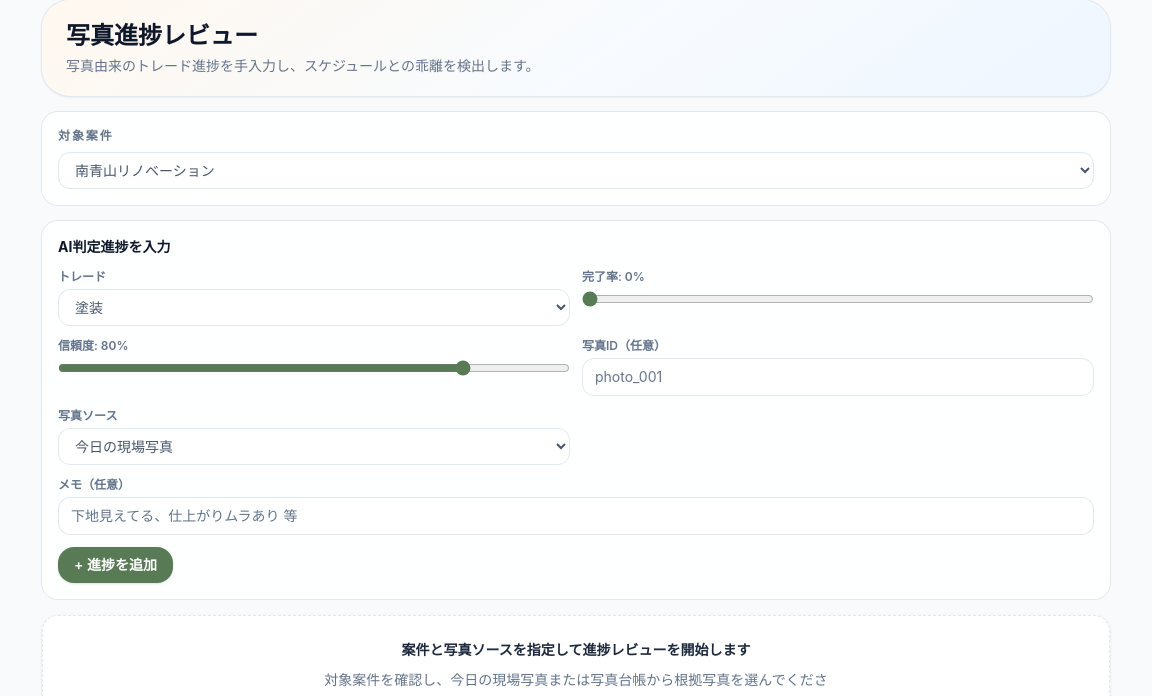
ProgressReviewPage › adds a TradeProgress entry via the input form
Expected: the heading "写真進捗レビュー" is shown, [66,21,258,50]
Select "塗装" in the 2nd dropdown at (314, 308), box [58,289,570,326]
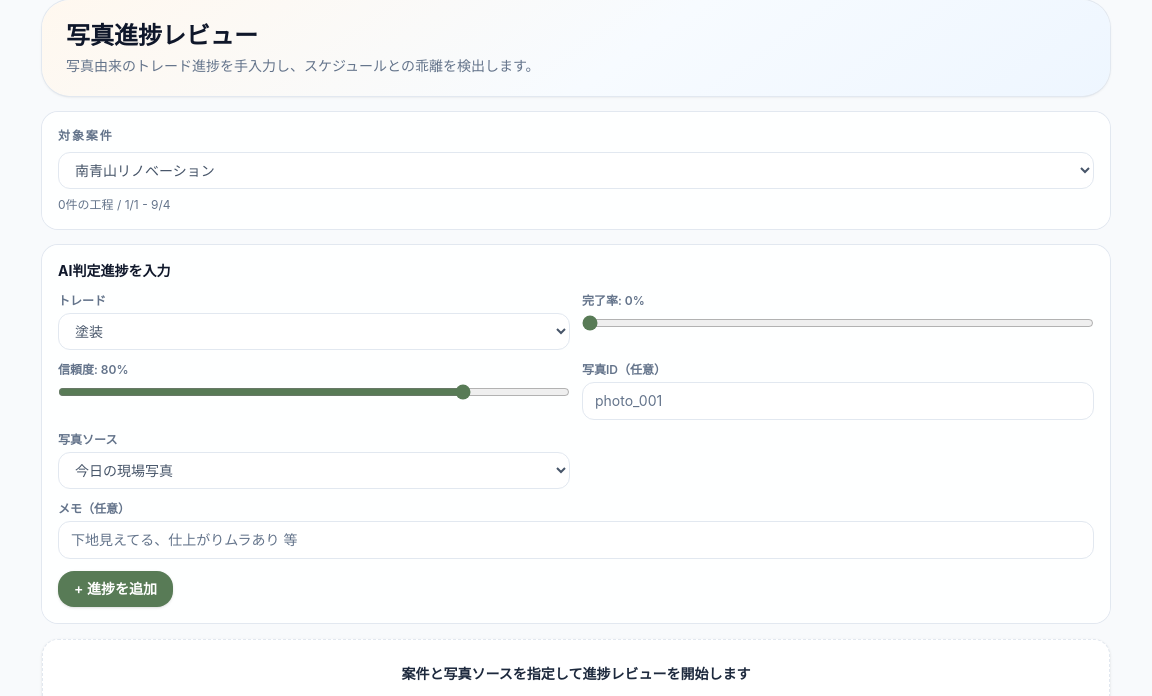
# 完了率スライダーを50に設定
Set the slider below "完了率:" to "50" at (838, 323), box [582,315,1094,331]
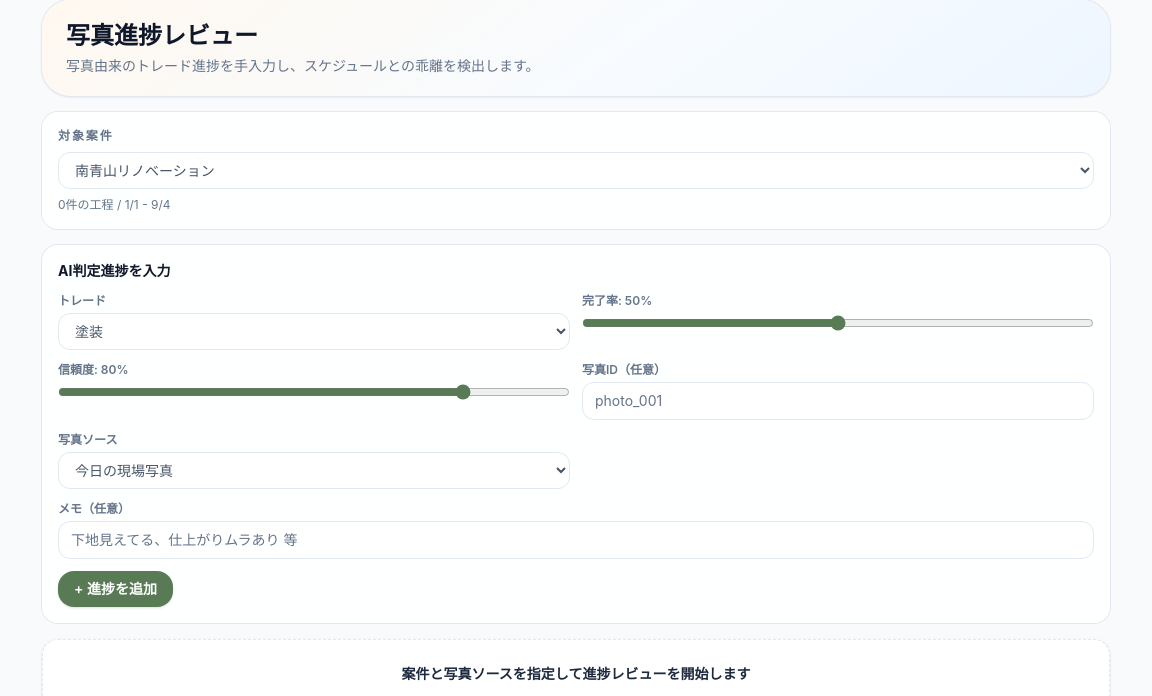
# 「+ 進捗を追加」ボタンをクリック
Click the button "+ 進捗を追加" at (116, 589), box [58,571,173,607]
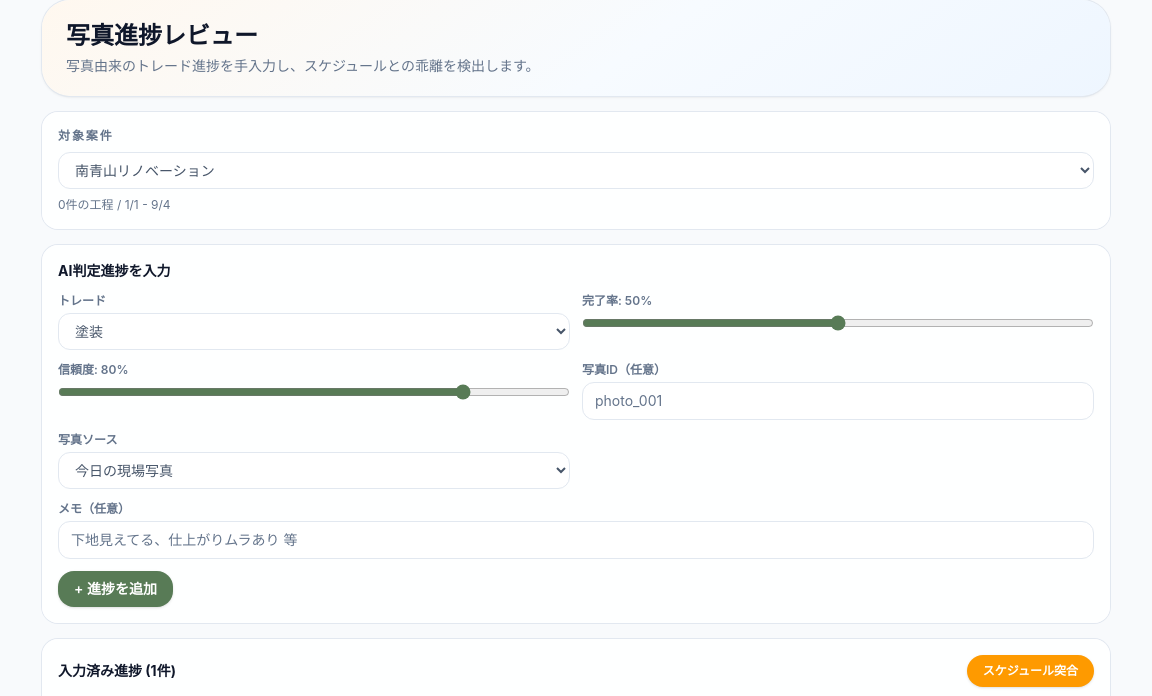
Expected: the heading "入力済み進捗 (1件)" is shown, [58,661,176,681]
